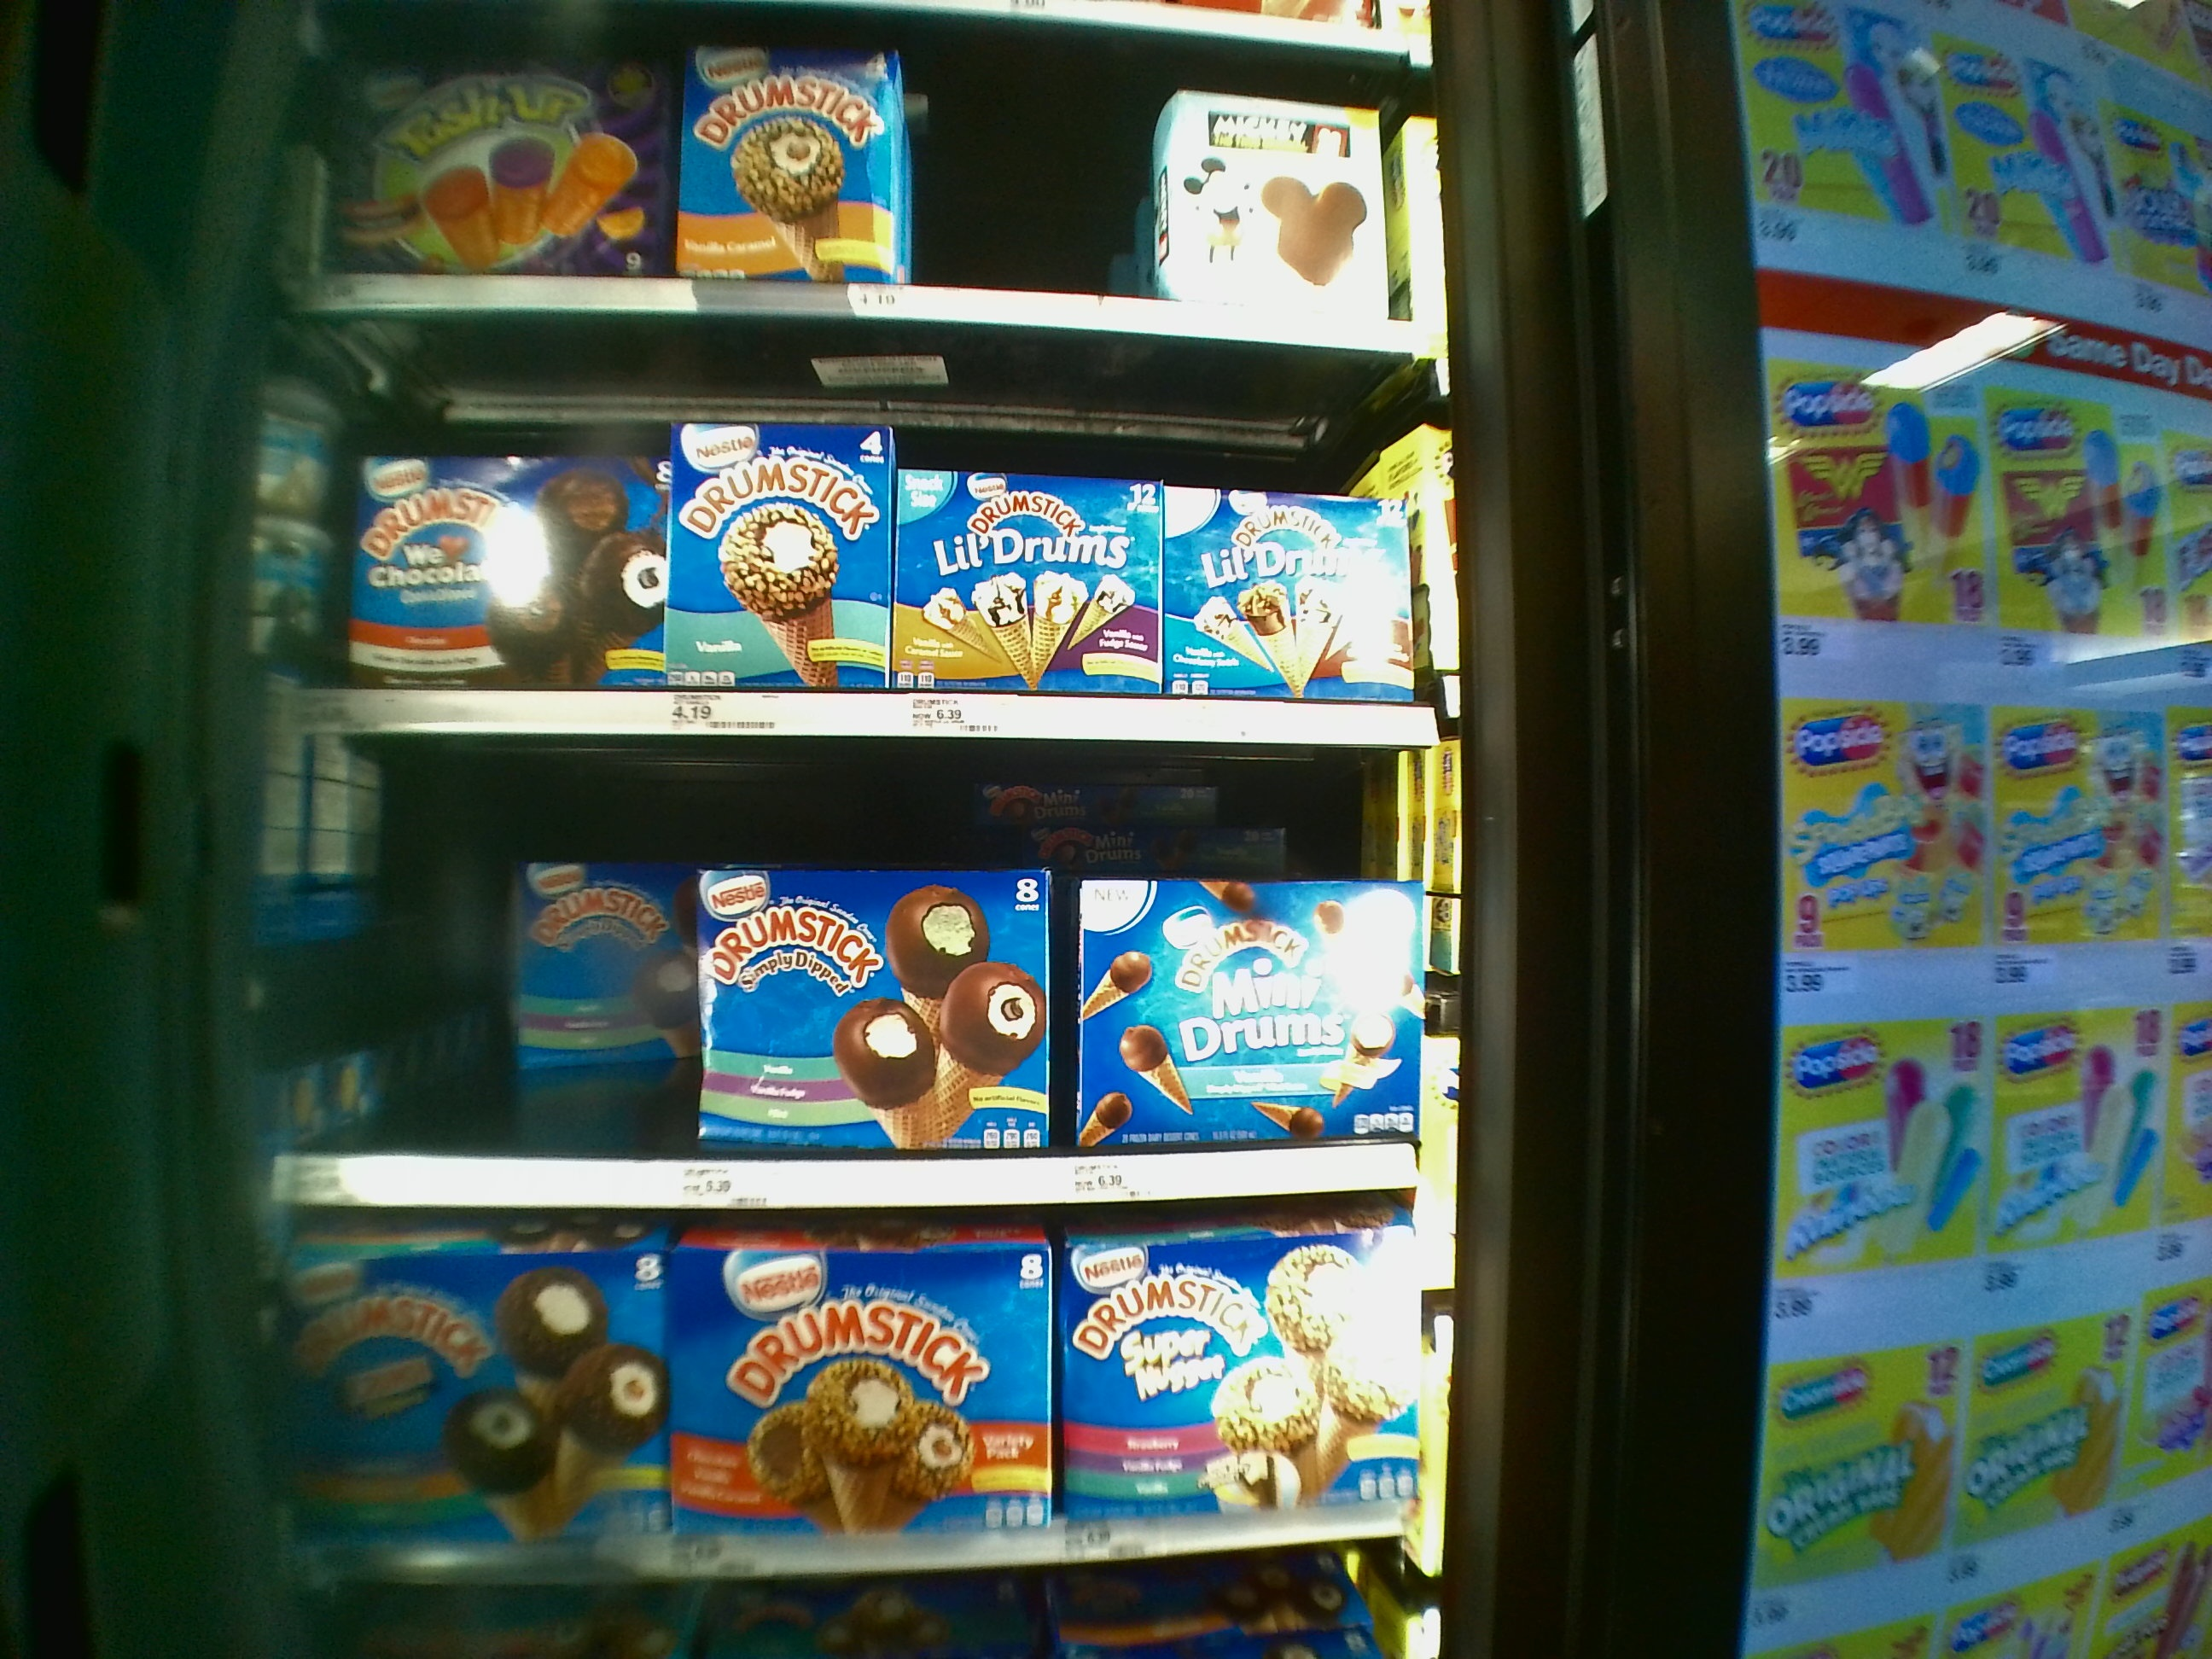shelf: (293, 737, 1425, 1201), (279, 1190, 1446, 1577), (298, 350, 1425, 742), (307, 3, 1392, 345)
